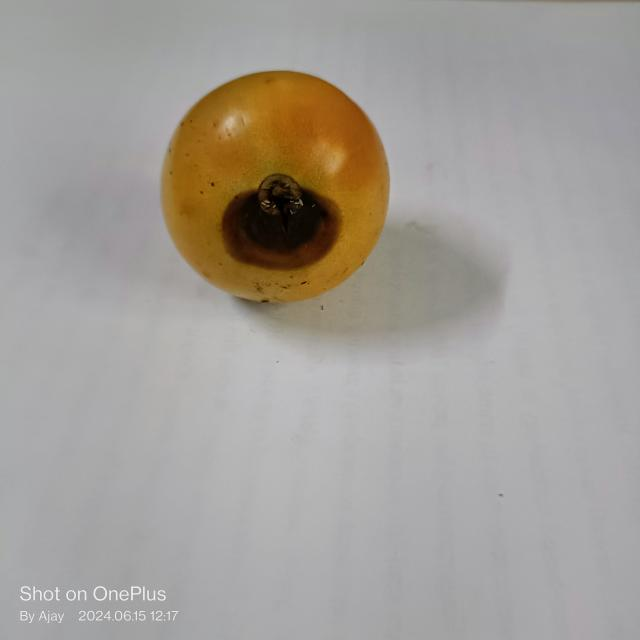Anthrocnose: (219, 175, 343, 269)
